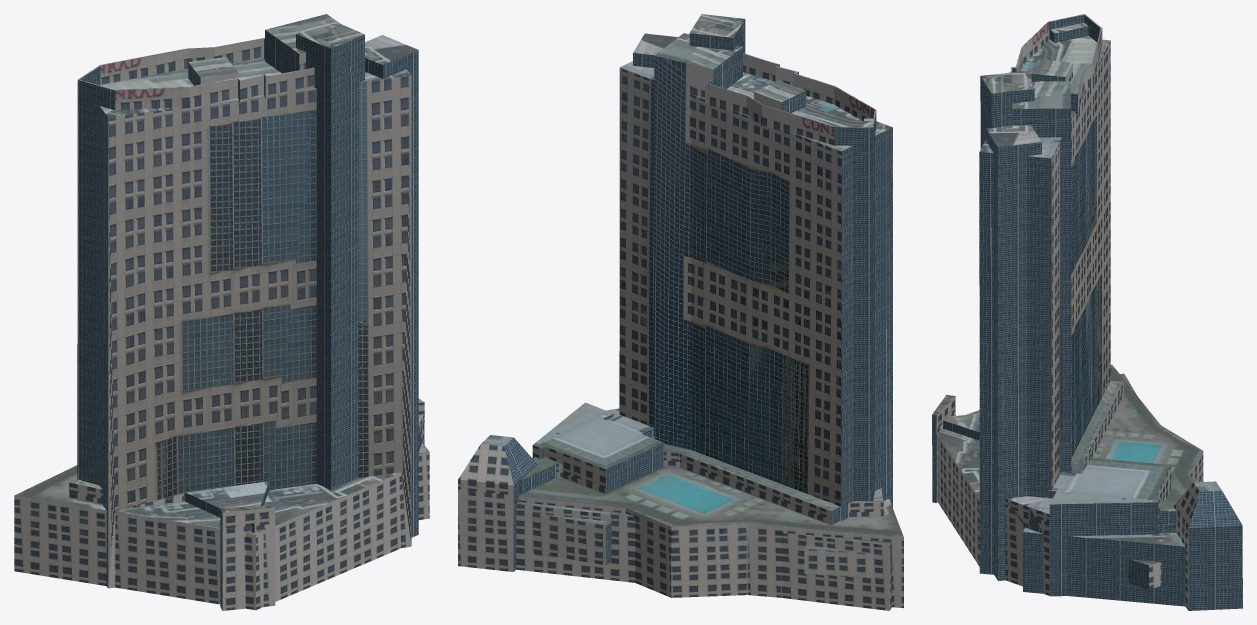
3 views of the same model, side by side, from view 1: azimuth 30°, elevation 25°; view 2: azimuth 150°, elevation 25°; view 3: azimuth 270°, elevation 25° (orthographic). The views are drawn at different scales.
Parts seen in each view (by area): view 1: Conrad north stone and curtain wall, Conrad blue window grid, Conrad stone window bays, Conrad aerial roof surfaces; view 2: Conrad bay-facing stone and curtain wall, Conrad stone window bays, Conrad blue window grid, Conrad aerial roof surfaces; view 3: Conrad blue window grid, Conrad aerial roof surfaces, Conrad bay-facing stone and curtain wall, Conrad stone window bays.
Part boxes in pixels (x1=…): Conrad north stone and curtain wall: x1=100, y1=38, x2=411, y2=584; Conrad blue window grid: x1=77, y1=30, x2=422, y2=610; Conrad stone window bays: x1=14, y1=402, x2=429, y2=610; Conrad aerial roof surfaces: x1=15, y1=14, x2=429, y2=534; Conrad bay-facing stone and curtain wall: x1=619, y1=54, x2=874, y2=515; Conrad stone window bays: x1=458, y1=444, x2=903, y2=610; Conrad blue window grid: x1=504, y1=19, x2=892, y2=603; Conrad aerial roof surfaces: x1=481, y1=14, x2=903, y2=553; Conrad blue window grid: x1=932, y1=15, x2=1242, y2=610; Conrad aerial roof surfaces: x1=932, y1=14, x2=1221, y2=565; Conrad bay-facing stone and curtain wall: x1=1011, y1=22, x2=1110, y2=489; Conrad stone window bays: x1=936, y1=382, x2=1203, y2=610.
Bounding box in the file's own units: 95.94 × 116 × 70.54.
5 materials, 5 textured.
